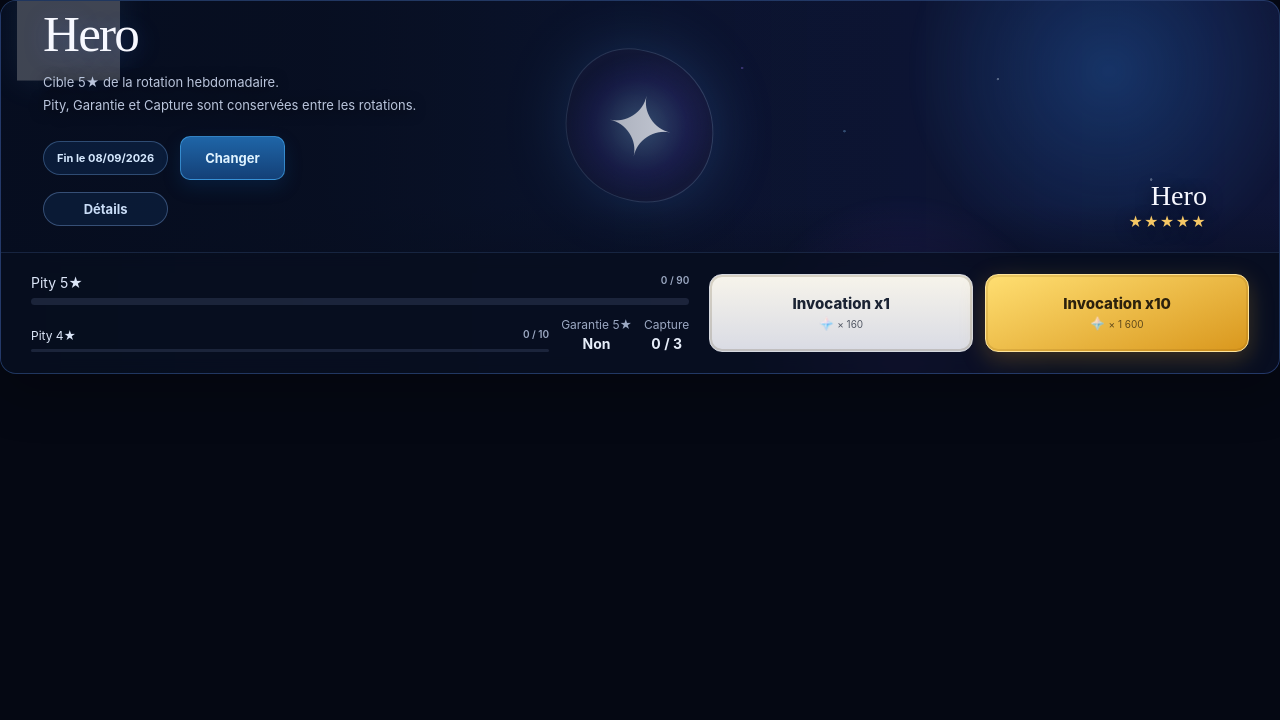
Test: removes the bottom history button while keeping Détails and its Historique tab
The width and height of the screenshot is (1280, 720).
What coordinates should you click on to do the following:
click the button "Détails"
I would click on:
 (106, 209)
Its box is x1=43 y1=192 x2=168 y2=226.
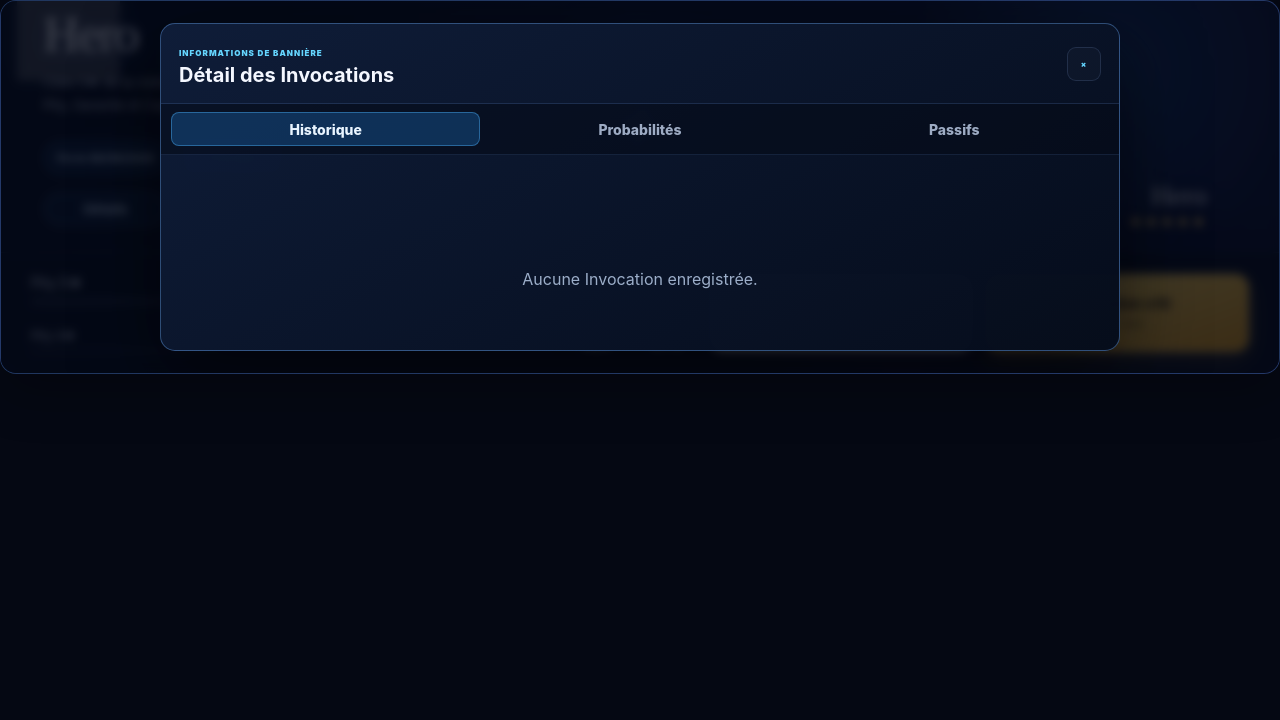
Expected: the dialog is shown, x1=160 y1=23 x2=1120 y2=351
Expected: the tab "Historique" is shown, x1=171 y1=112 x2=480 y2=146
Expected: the text "Aucune Invocation enregistrée." is shown, x1=522 y1=269 x2=758 y2=289
